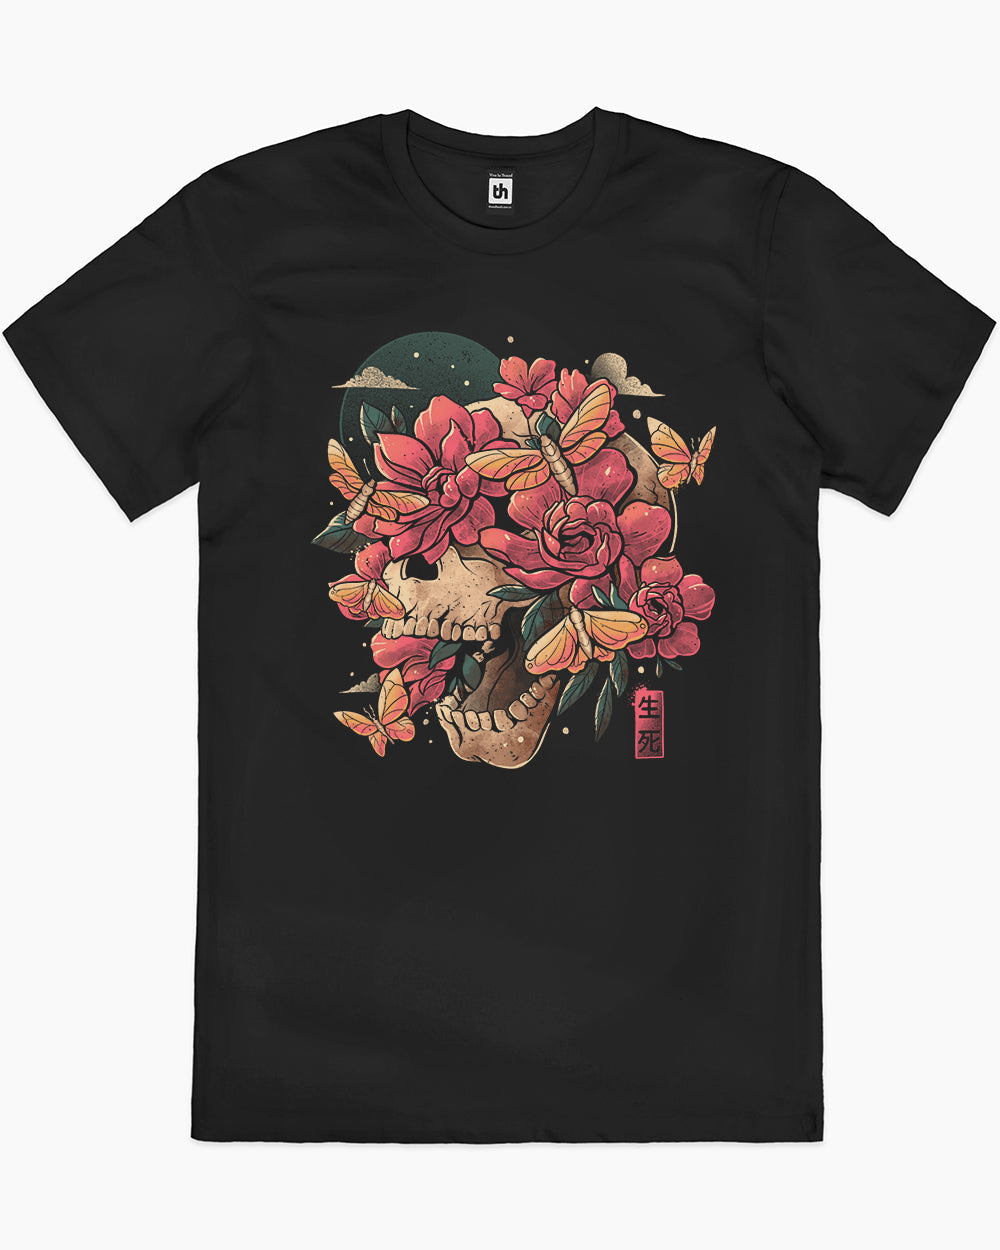design: (301, 322, 726, 776)
